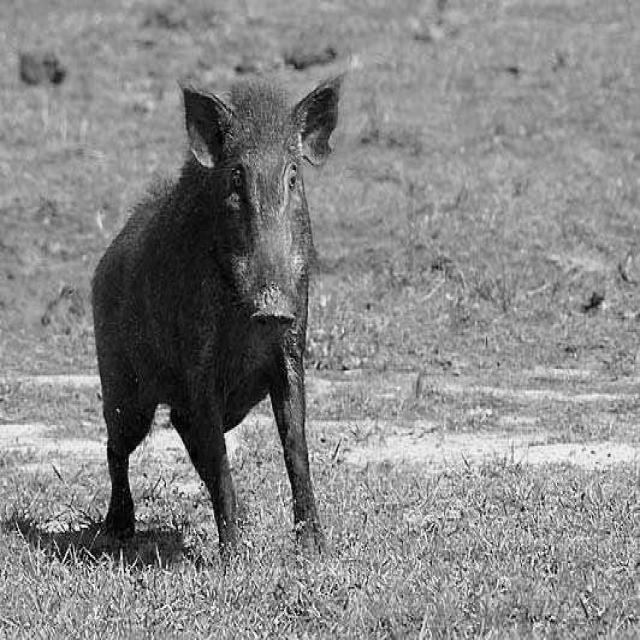boar: (90, 75, 340, 547)
